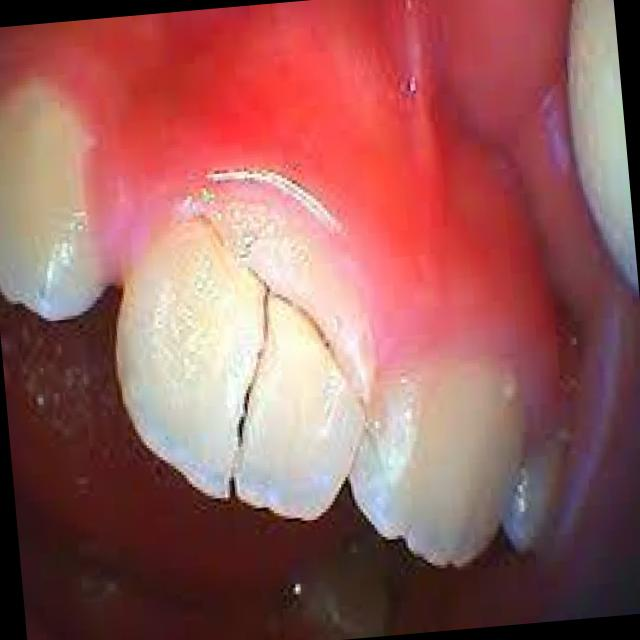Crack: (198, 217, 343, 500)
Tooth: (116, 199, 377, 520), (350, 355, 525, 567), (0, 81, 104, 319)
